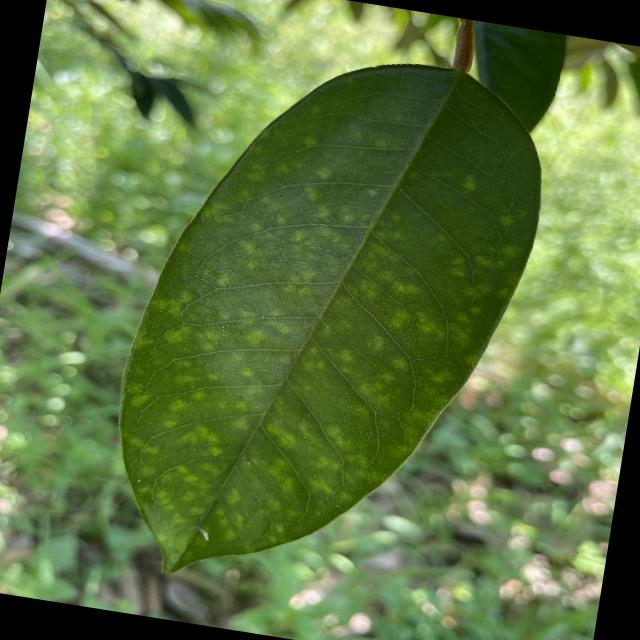Leaf Spot: (82, 14, 570, 616)
